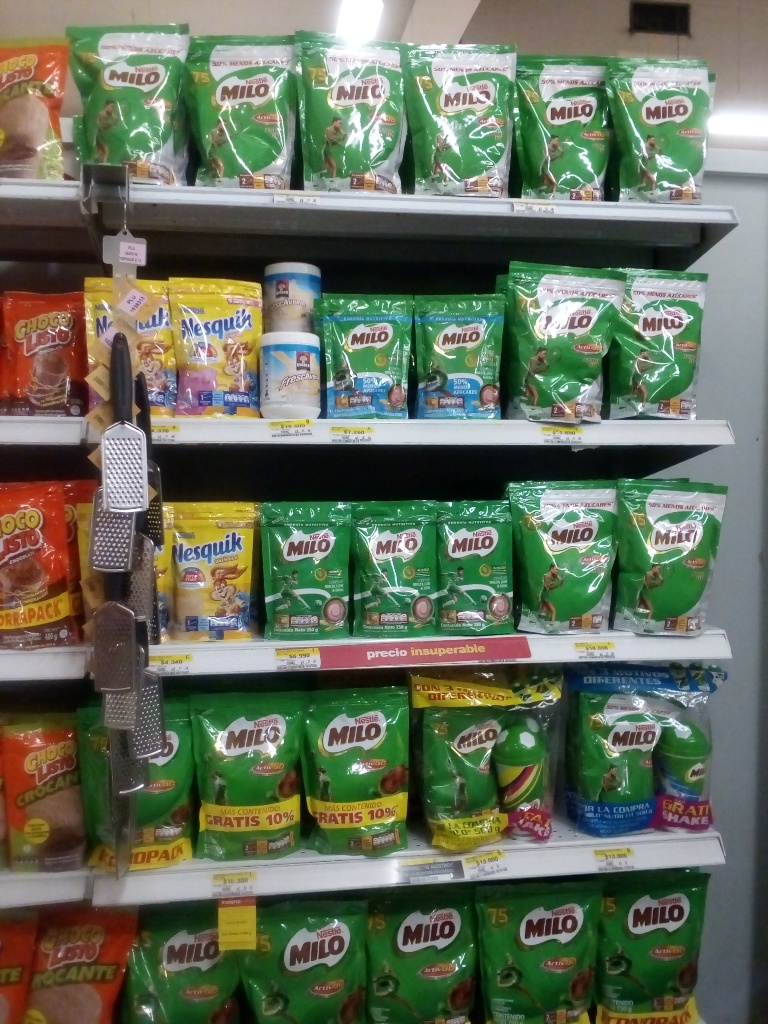COL0170102DYP25000: (2, 706, 96, 869)
COL0170103DYP20000: (3, 281, 91, 416)
COL0170103DYP40000: (3, 476, 82, 652)
COL0170203DYP25000: (263, 496, 358, 638)
COL0170203DYP50000: (419, 695, 510, 825)
COL0170205DYP20000: (307, 292, 411, 421)
COL0170305DYP20000: (172, 270, 262, 418)
COL0170306DYP20000: (163, 496, 261, 643)
